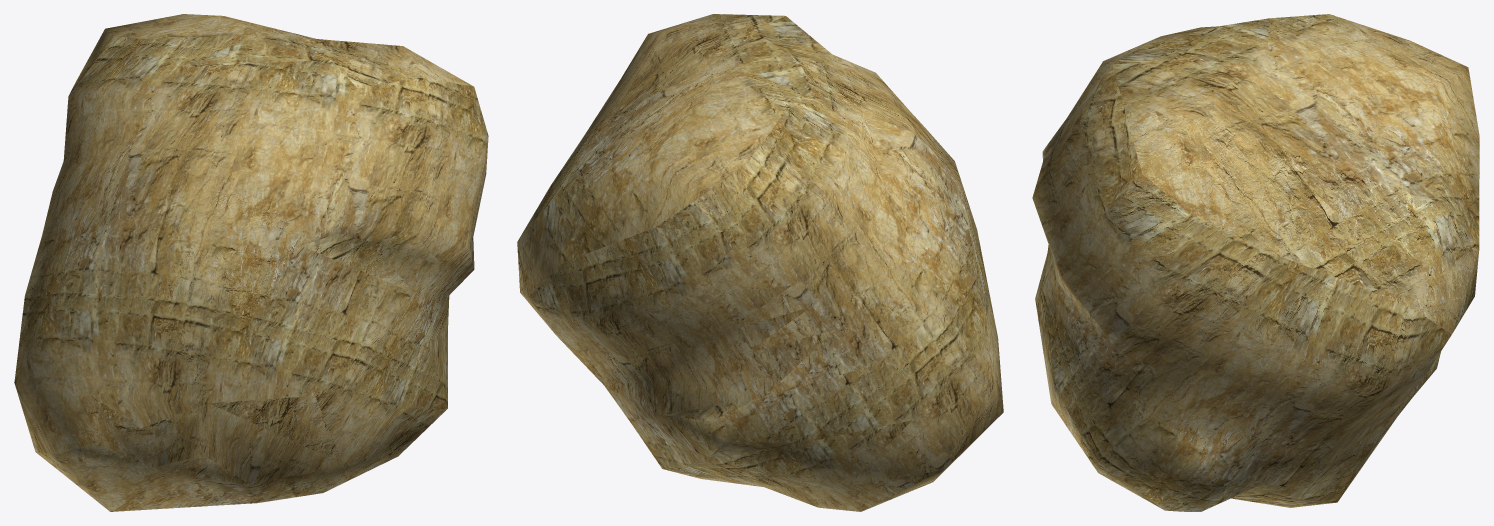
File: Boulder4.dae
3 renders of one model, left to right at view 1: azimuth 30°, elevation 25°; view 2: azimuth 150°, elevation 25°; view 3: azimuth 270°, elevation 25°, orthographic. The views are drawn at different scales.
Parts seen in each view (by area): view 1: rock0; view 2: rock0; view 3: rock0.
Part boxes in pixels (x1,y1,x2,y2): rock0: [14, 14, 488, 511]; rock0: [517, 14, 1003, 511]; rock0: [1032, 14, 1479, 511].
Size of the model in its own units: 1.87 by 1.57 by 1.79.
